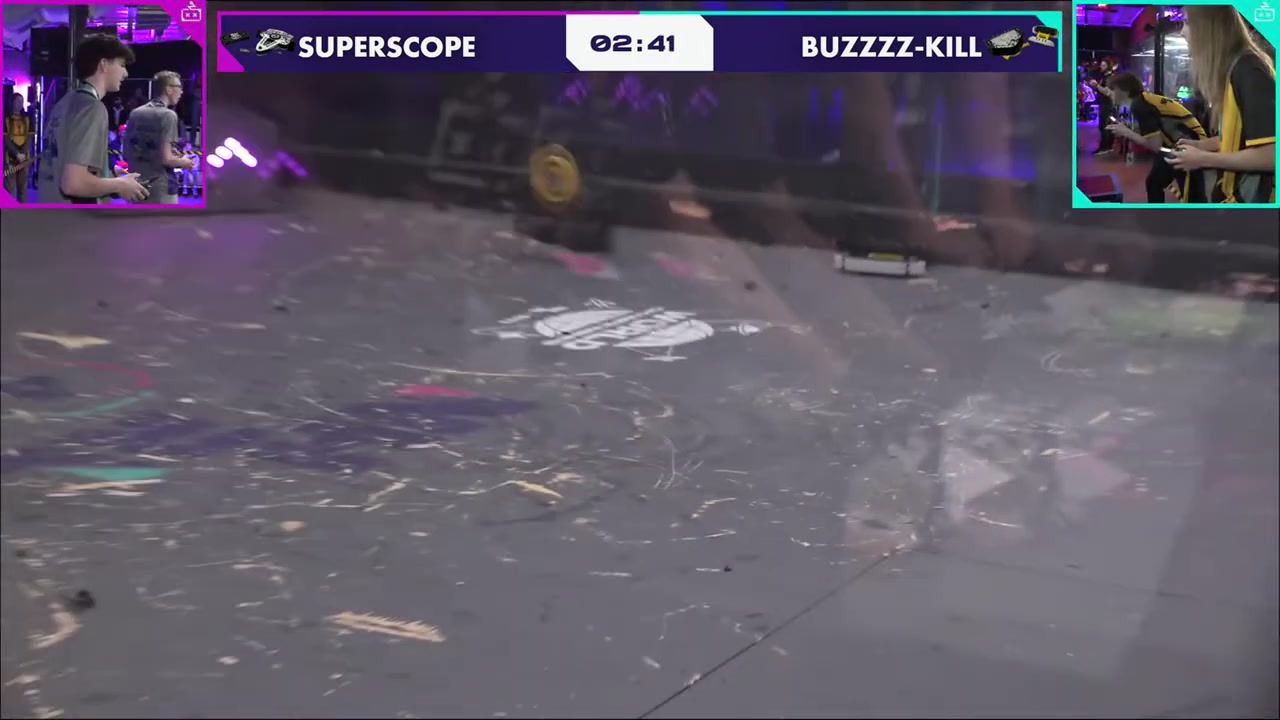combatbot: (833, 252, 927, 276)
housebot: (201, 107, 283, 215)
